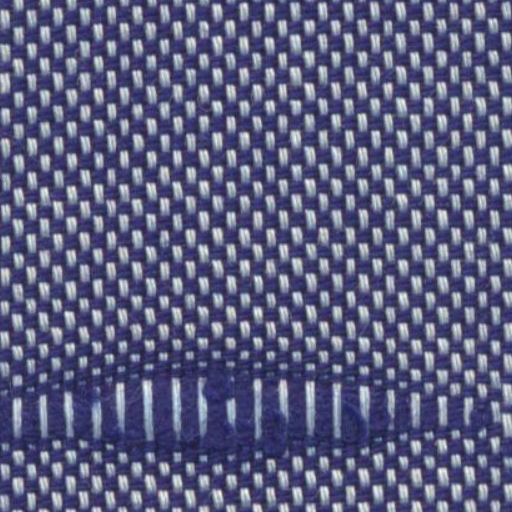DaiSha: (10, 355, 480, 462)
